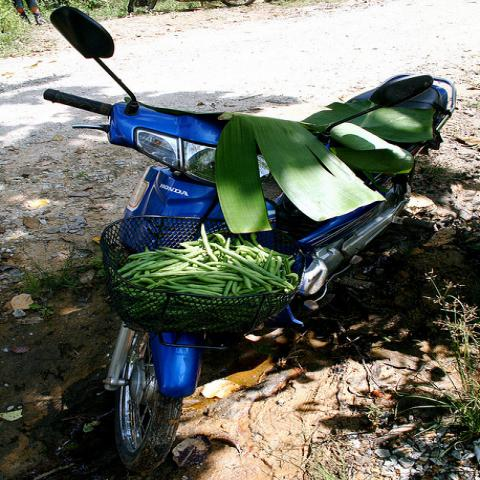motorcycle: (39, 1, 470, 465)
